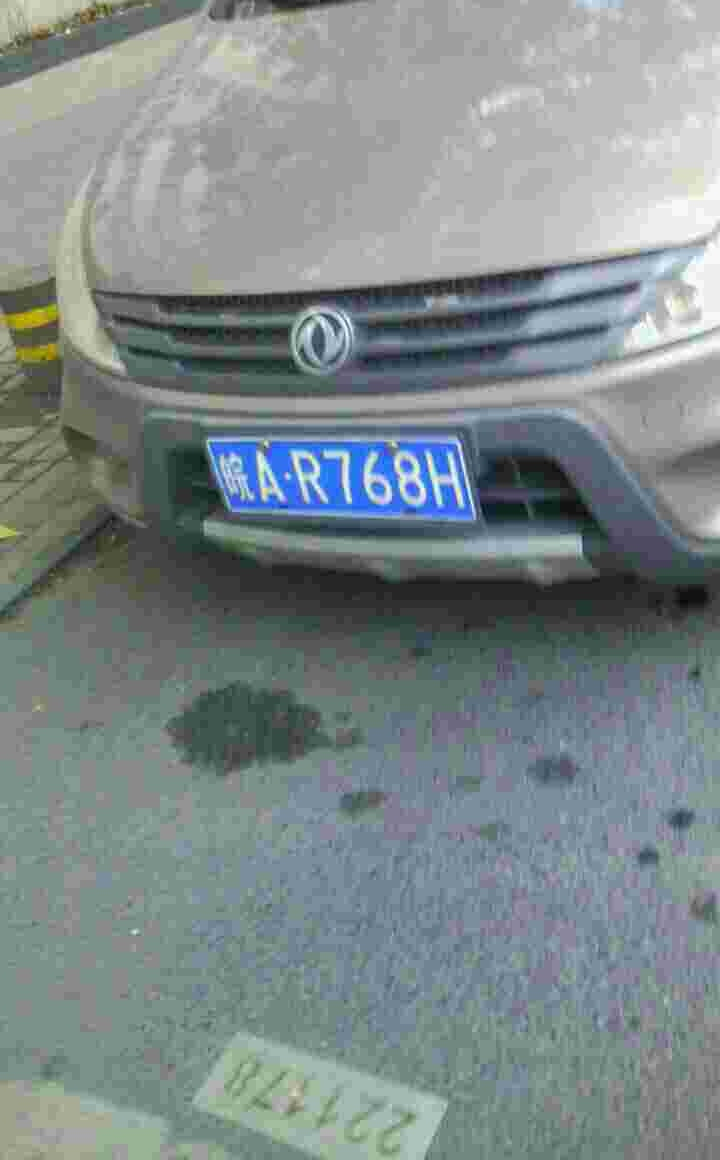plate: (201, 431, 484, 523)
